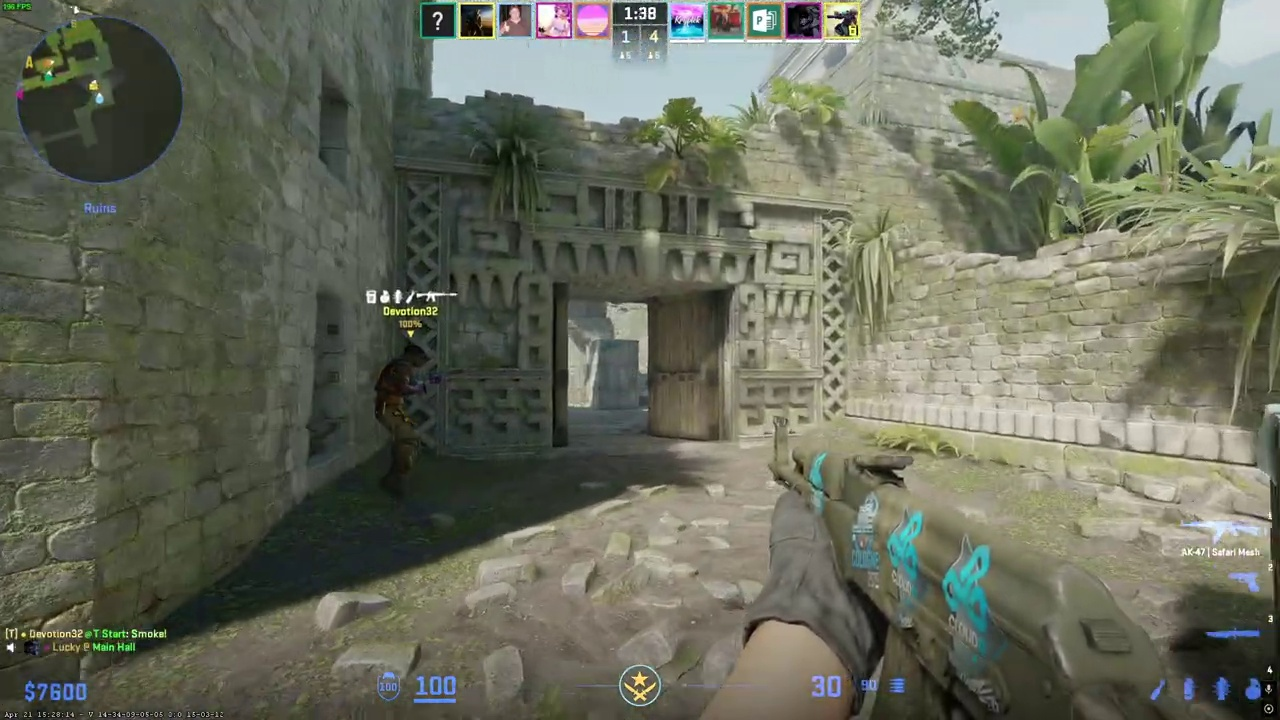Terrorist: (372, 341, 441, 491)
